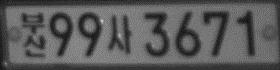1: (234, 10, 259, 56)
3: (144, 12, 169, 57)
6: (175, 11, 201, 57)
7: (202, 10, 230, 56)
9: (48, 11, 73, 56), (77, 12, 102, 57)
부산_V: (21, 12, 47, 58)
사: (107, 14, 132, 54)
